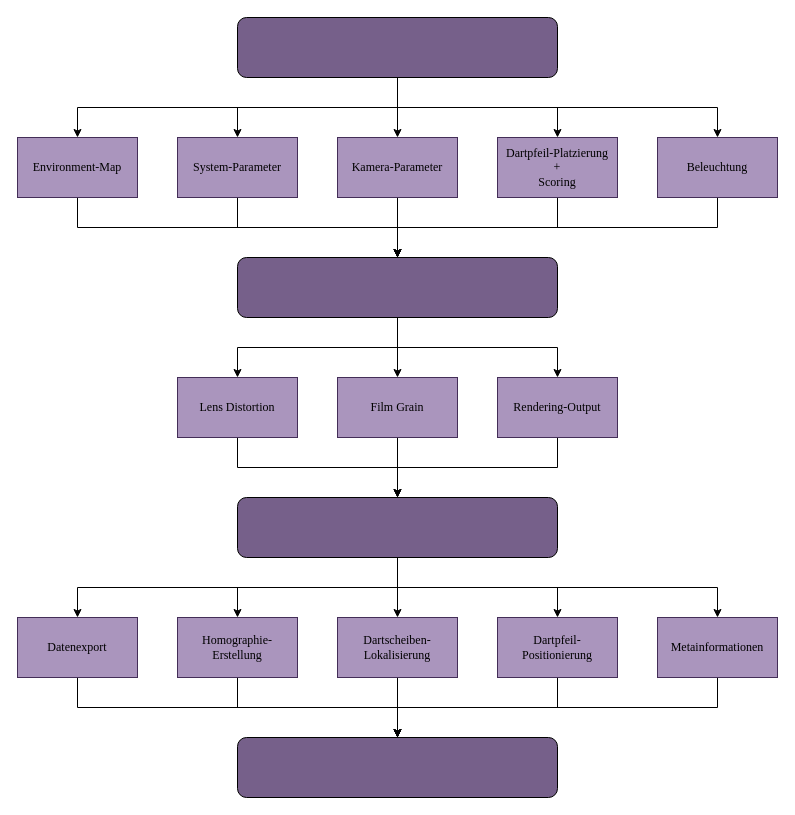
Image size: 795x815. Some labels were removed from this diagram. The centre of each missing label's shape, as x and y in pixels:
"3D-Szene" goes at (397,47).
"Composition + Masken" goes at (397,527).
"Finale Daten" goes at (397,767).
"Render" goes at (397,287).
